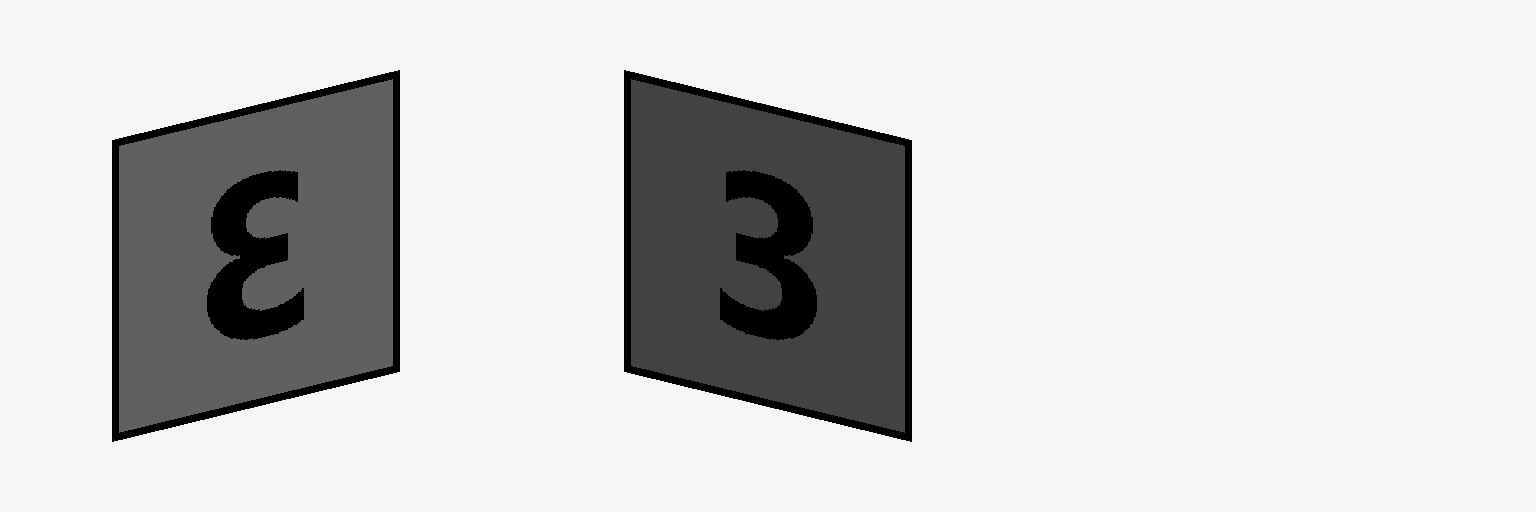
3 views of the same model, side by side, from view 1: azimuth 30°, elevation 25°; view 2: azimuth 150°, elevation 25°; view 3: azimuth 270°, elevation 25° (orthographic).
Parts seen in each view (by area): view 1: 平面.001; view 2: 平面.001; view 3: none.
Part boxes in pixels (left/top/right/bottom): 平面.001: left=112, top=70, right=399, bottom=441; 平面.001: left=624, top=70, right=911, bottom=441.
Size of the model in its own units: 2 by 2 by 0.
Materials: 1 (1 with a texture image).